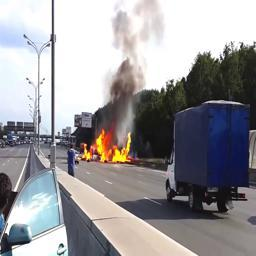fire: (82, 128, 132, 163)
